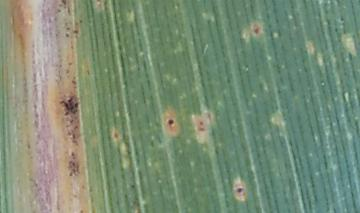tarspot: (60, 97, 79, 116), (166, 118, 175, 126), (235, 187, 244, 195), (253, 24, 260, 34), (198, 119, 204, 129), (72, 28, 79, 35), (64, 32, 71, 38), (61, 1, 67, 8), (65, 25, 71, 31)
